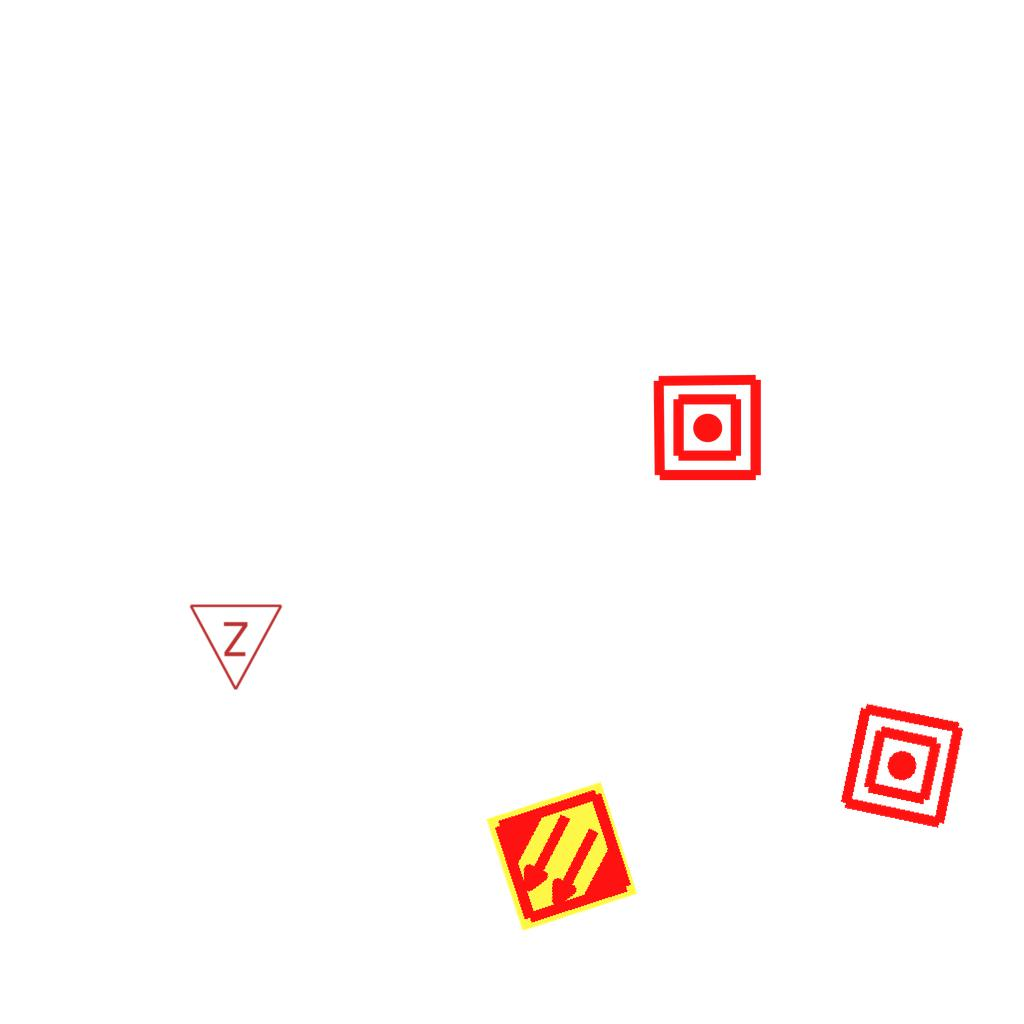ASR_Ansaugrauchmelder: (482, 777, 641, 936)
NAM-Nichtautomatischer_Melder: (835, 698, 970, 833), (651, 371, 764, 484)
Zimmersignalleuchte: (188, 597, 286, 697)
